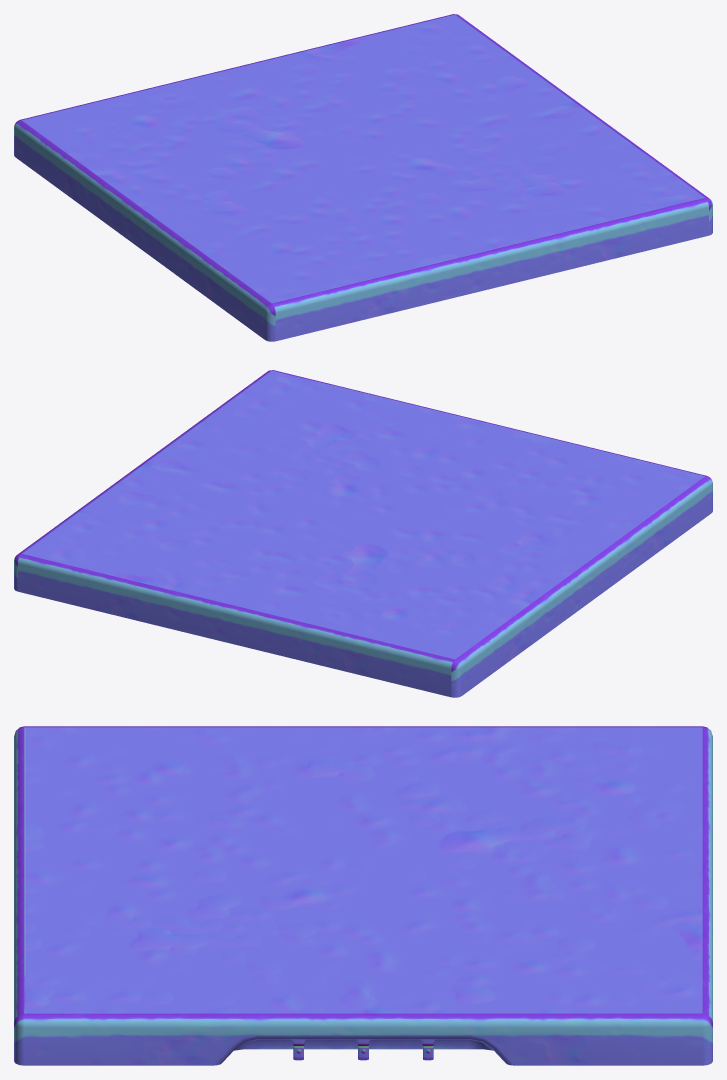
Rendered from sm_curb_04_wide.fbx.
3 renders of one model, top to bottom at view 1: azimuth 30°, elevation 25°; view 2: azimuth 150°, elevation 25°; view 3: azimuth 270°, elevation 25°, orthographic. The views are drawn at different scales.
Visible parts, largest first — view 1: sm_curb_04_wide; view 2: sm_curb_04_wide; view 3: sm_curb_04_wide.
Part boxes in pixels (box(x1,y1,x2,y2)): sm_curb_04_wide: box(14, 14, 712, 341); sm_curb_04_wide: box(14, 370, 712, 697); sm_curb_04_wide: box(14, 726, 712, 1065).
Size of the model in its own units: 200 by 15 by 200.
1 material, 1 textured.
